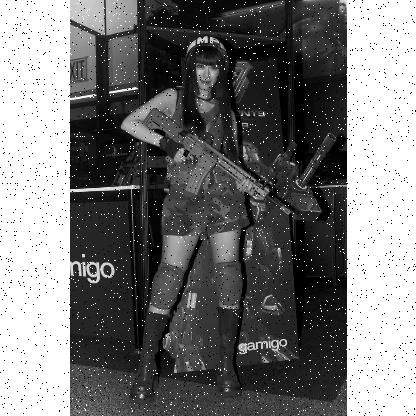gun: (141, 108, 290, 216)
